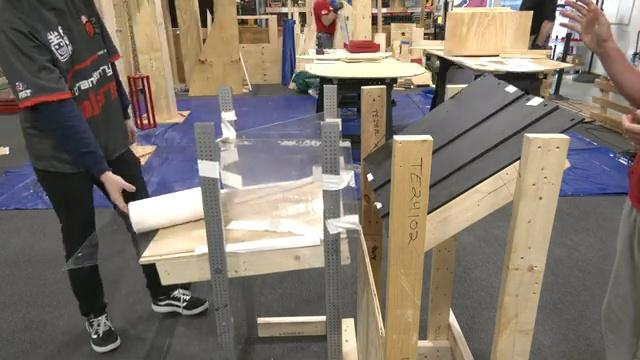CORAL: (128, 187, 203, 234)
